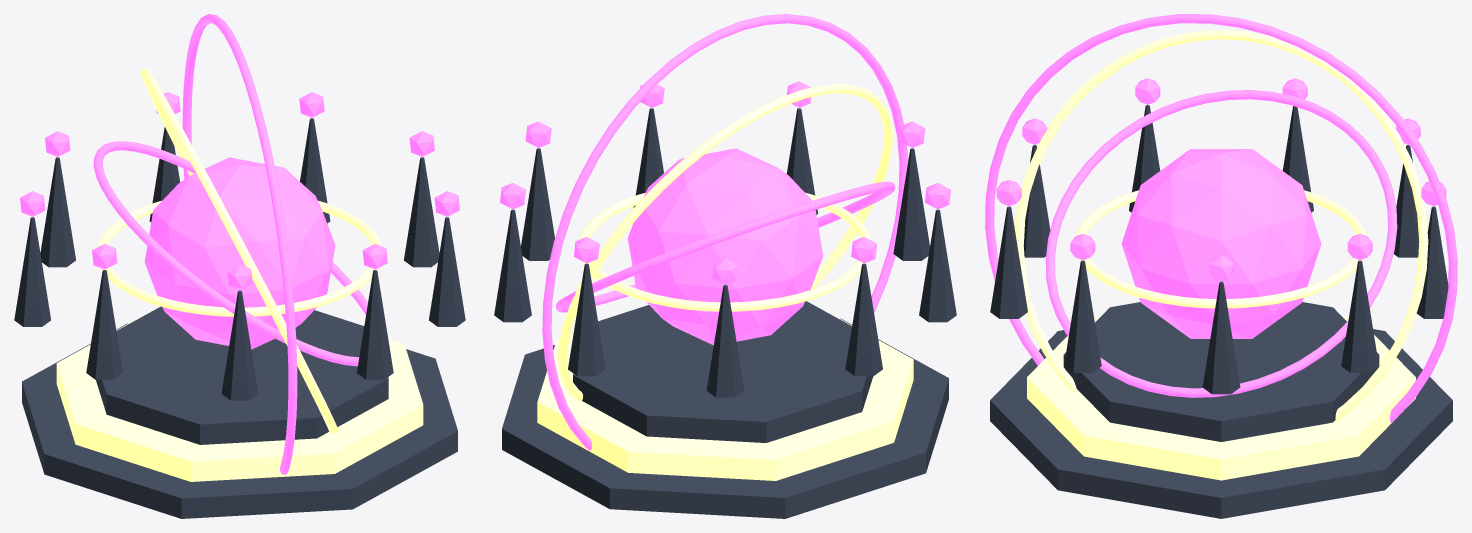
File: gpu-blender-v9.glb
3 views of the same model, side by side, from view 1: azimuth 30°, elevation 25°; view 2: azimuth 150°, elevation 25°; view 3: azimuth 270°, elevation 25° (orthographic). The views are drawn at different scales.
Visible parts, largest first — view 1: Cylinder.002, Cylinder, SovereignCore_adytum-alchemist-ai-workflow, Cylinder.001, Torus.003, Torus.001, Torus.002, Torus, Cone.006, Cone, Cone.003, Cone.005 (+13 smaller); view 2: Cylinder.002, SovereignCore_adytum-alchemist-ai-workflow, Cylinder, Cylinder.001, Torus.003, Torus.002, Torus.001, Torus, Cone.002, Cone.004, Cone.001, Cone.005 (+12 smaller); view 3: SovereignCore_adytum-alchemist-ai-workflow, Cylinder.002, Cylinder, Cylinder.001, Torus.003, Torus.002, Torus.001, Torus, Cone, Cone.007, Cone.001, Cone.008 (+9 smaller).
Part boxes in pixels (x1,y1,x2,y2): Cylinder.002: (96, 306, 388, 444); Cylinder: (22, 323, 457, 518); SovereignCore_adytum-alchemist-ai-workflow: (144, 157, 335, 349); Cylinder.001: (56, 314, 423, 481); Torus.003: (182, 14, 297, 474); Torus.001: (93, 141, 367, 366); Torus.002: (140, 68, 338, 433); Torus: (98, 200, 381, 316); Cone.006: (221, 290, 258, 400); Cone: (404, 157, 439, 267); Cone.003: (40, 157, 75, 267); Cone.005: (86, 270, 122, 379); Cylinder.002: (573, 301, 873, 442); SovereignCore_adytum-alchemist-ai-workflow: (627, 148, 823, 345); Cylinder: (502, 318, 948, 518); Cylinder.001: (537, 309, 913, 480); Torus.003: (542, 14, 908, 450); Torus.002: (558, 84, 892, 401); Torus.001: (556, 181, 894, 312); Torus: (580, 192, 870, 311); Cone.002: (568, 263, 605, 376); Cone.004: (845, 263, 882, 376); Cone.001: (494, 209, 531, 322); Cone.005: (919, 209, 956, 322); SovereignCore_adytum-alchemist-ai-workflow: (1121, 149, 1321, 338); Cylinder.002: (1063, 302, 1379, 441); Cylinder: (990, 329, 1452, 518); Cylinder.001: (1027, 316, 1415, 480); Torus.003: (985, 14, 1457, 422); Torus.002: (1015, 30, 1428, 421); Torus.001: (1045, 90, 1397, 397); Torus: (1076, 190, 1366, 308); Cone: (1202, 281, 1240, 394); Cone.007: (990, 206, 1027, 318); Cone.001: (1341, 260, 1378, 372); Cone.008: (1064, 260, 1101, 372).
Size of the model in its own units: 4.41 by 4.7 by 4.49.
